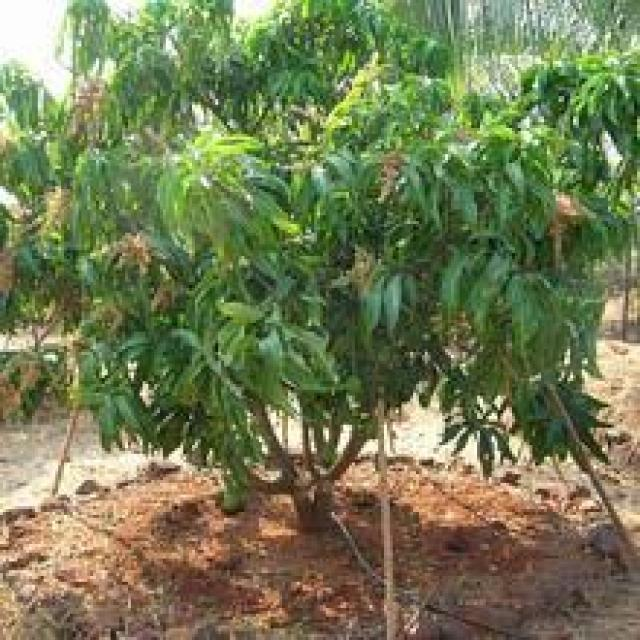Tree: (24, 16, 620, 611)
